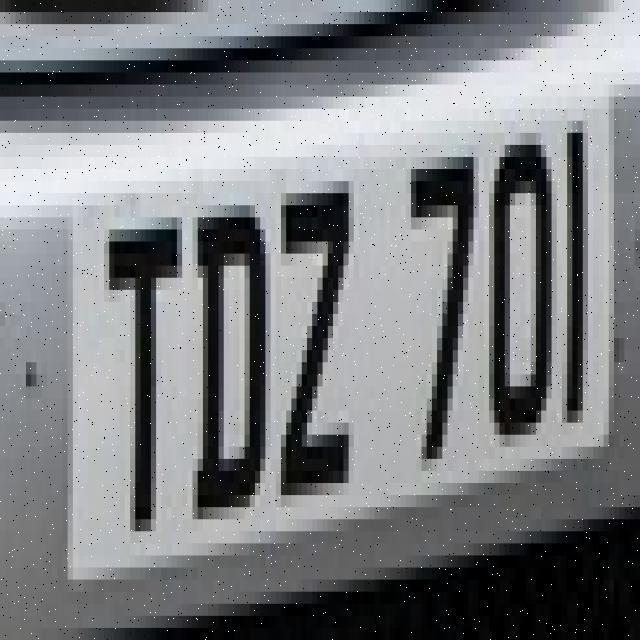LicensePlate: (53, 105, 640, 562)
